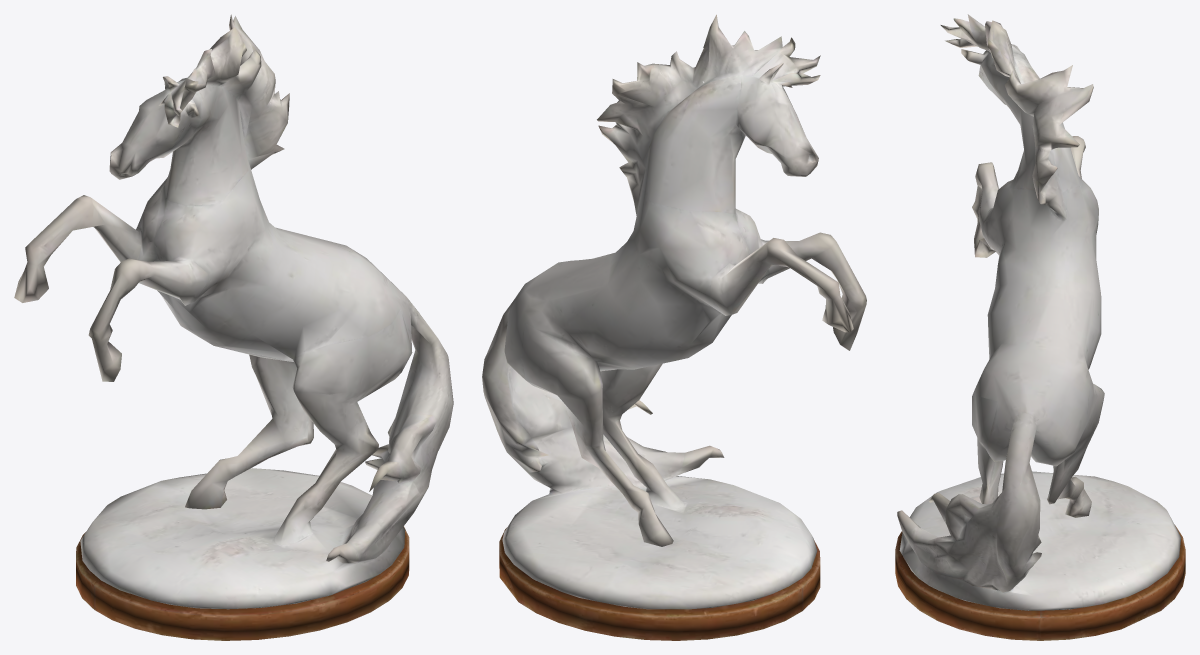
File: horse_statue_01.glb
3 renders of one model, left to right at view 1: azimuth 30°, elevation 25°; view 2: azimuth 150°, elevation 25°; view 3: azimuth 270°, elevation 25°, orthographic. The views are drawn at different scales.
Visible parts, largest first — view 1: horse_statue_01; view 2: horse_statue_01; view 3: horse_statue_01.
Boxes of the visible parts, left/top/right/bottom form: horse_statue_01: left=14, top=14, right=453, bottom=640; horse_statue_01: left=482, top=14, right=866, bottom=640; horse_statue_01: left=895, top=14, right=1185, bottom=640.
Bounding box in the file's own units: 0.163 × 0.22 × 0.1078.
1 material, 1 textured.
